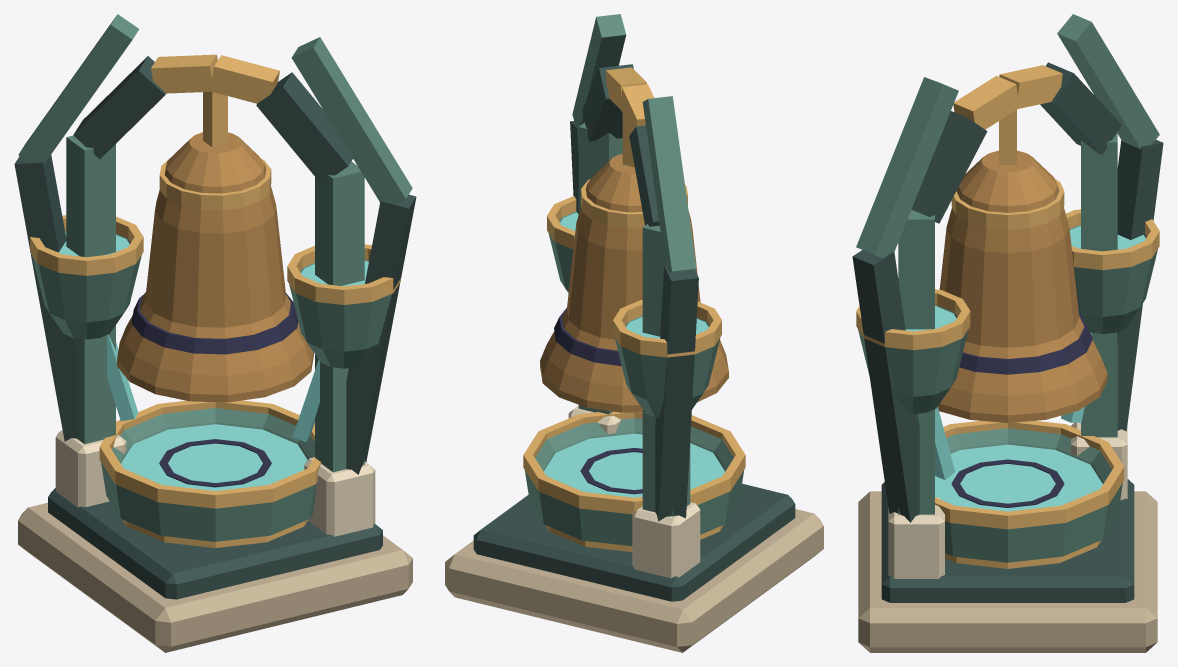
File: Tower_TideBellL2.fbx
3 views of the same model, side by side, from view 1: azimuth 30°, elevation 25°; view 2: azimuth 150°, elevation 25°; view 3: azimuth 270°, elevation 25° (orthographic). The views are drawn at different scales.
Parts seen in each view (by area): view 1: Tower_TideBellL2; view 2: Tower_TideBellL2; view 3: Tower_TideBellL2.
Boxes of the visible parts, bbox=[...] form: Tower_TideBellL2: bbox=[14, 14, 416, 652]; Tower_TideBellL2: bbox=[445, 14, 823, 652]; Tower_TideBellL2: bbox=[852, 14, 1163, 652].
Bounding box in the file's own units: 0.9363 × 1.81 × 0.9363.
